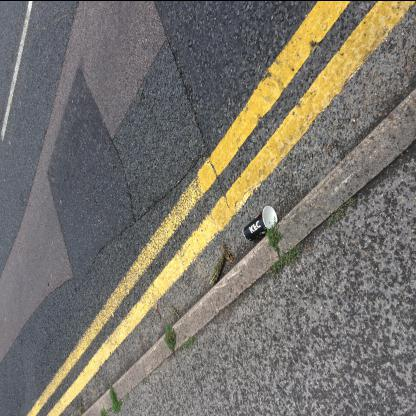karton: (242, 204, 278, 240)
